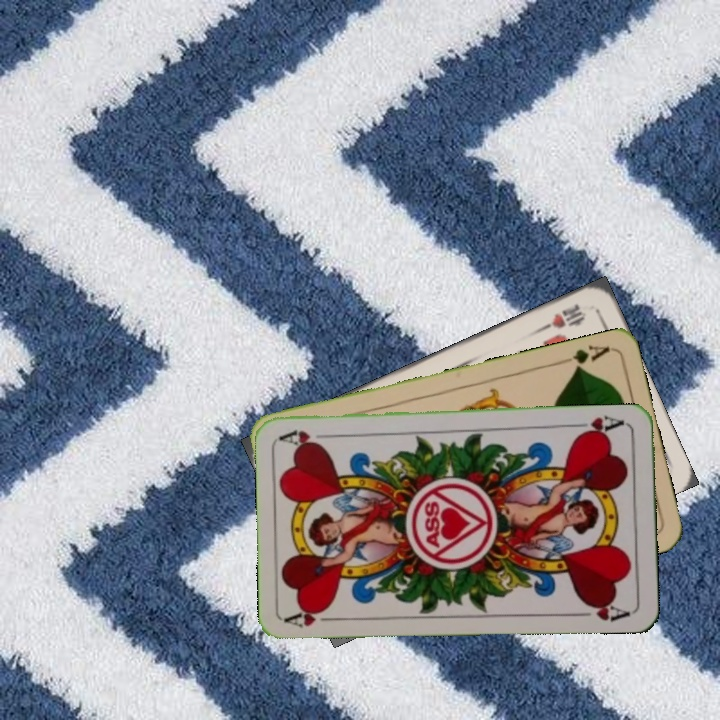GA: (554, 341, 613, 374)
H10: (536, 299, 589, 334)
HA: (569, 411, 628, 439), (283, 603, 342, 631)
